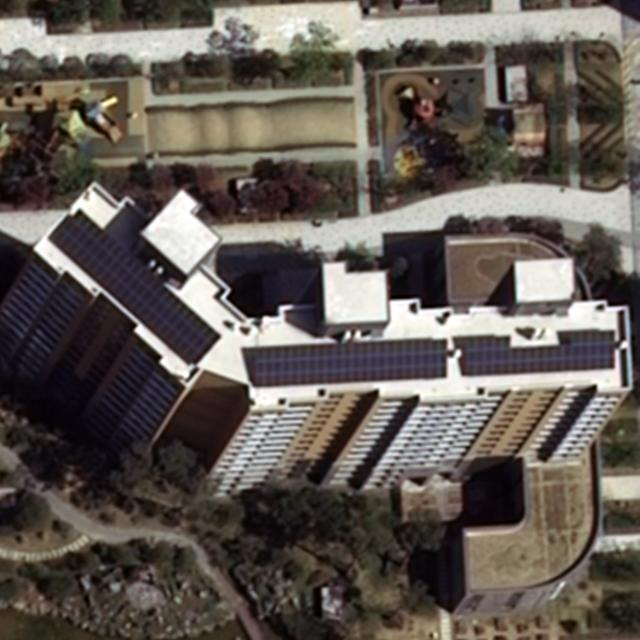panel: (51, 208, 224, 366), (249, 333, 454, 390), (458, 325, 620, 378)
